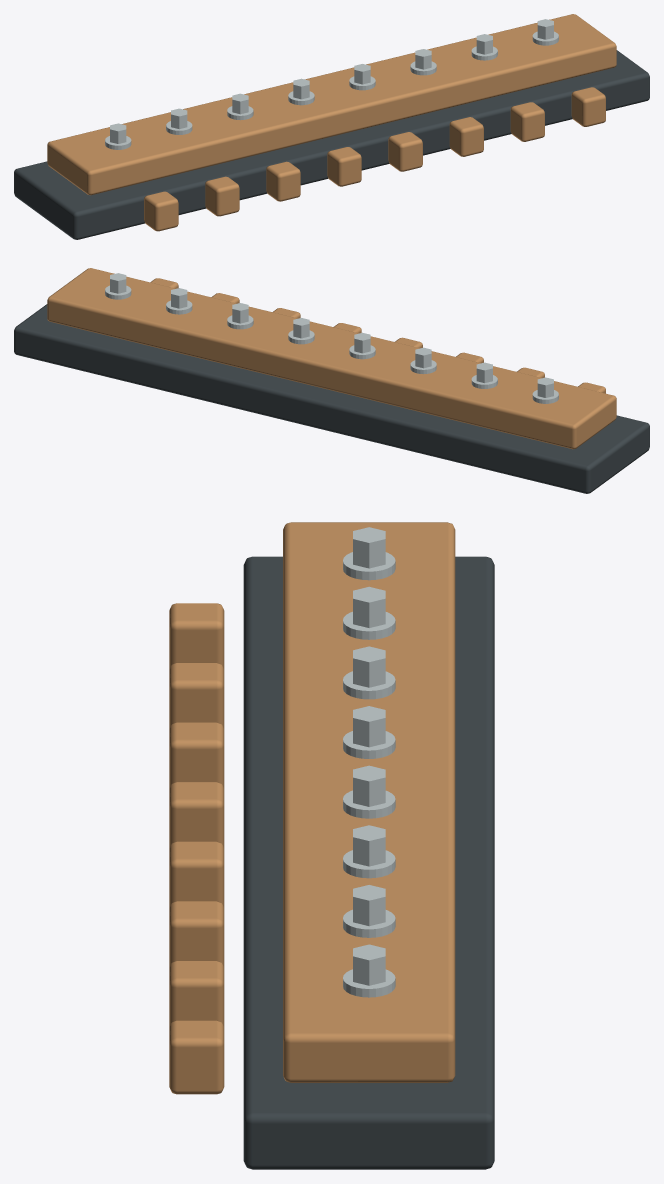
Rendered from broadcast-tower-and-relay-station-broadcast-tower-and--2f30396c__30257.glb.
3 views of the same model, one above another, from view 1: azimuth 30°, elevation 25°; view 2: azimuth 150°, elevation 25°; view 3: azimuth 270°, elevation 25° (orthographic). The views are drawn at different scales.
Parts seen in each view (by area): view 1: broadcast-tower-and-relay-station-grounding-bar; view 2: broadcast-tower-and-relay-station-grounding-bar; view 3: broadcast-tower-and-relay-station-grounding-bar.
Part boxes in pixels (box(x1,y1,x2,y2)): broadcast-tower-and-relay-station-grounding-bar: box(14, 14, 649, 239); broadcast-tower-and-relay-station-grounding-bar: box(14, 268, 649, 493); broadcast-tower-and-relay-station-grounding-bar: box(169, 522, 494, 1169).
Size of the model in its own units: 0.85 by 0.104 by 0.2075.
